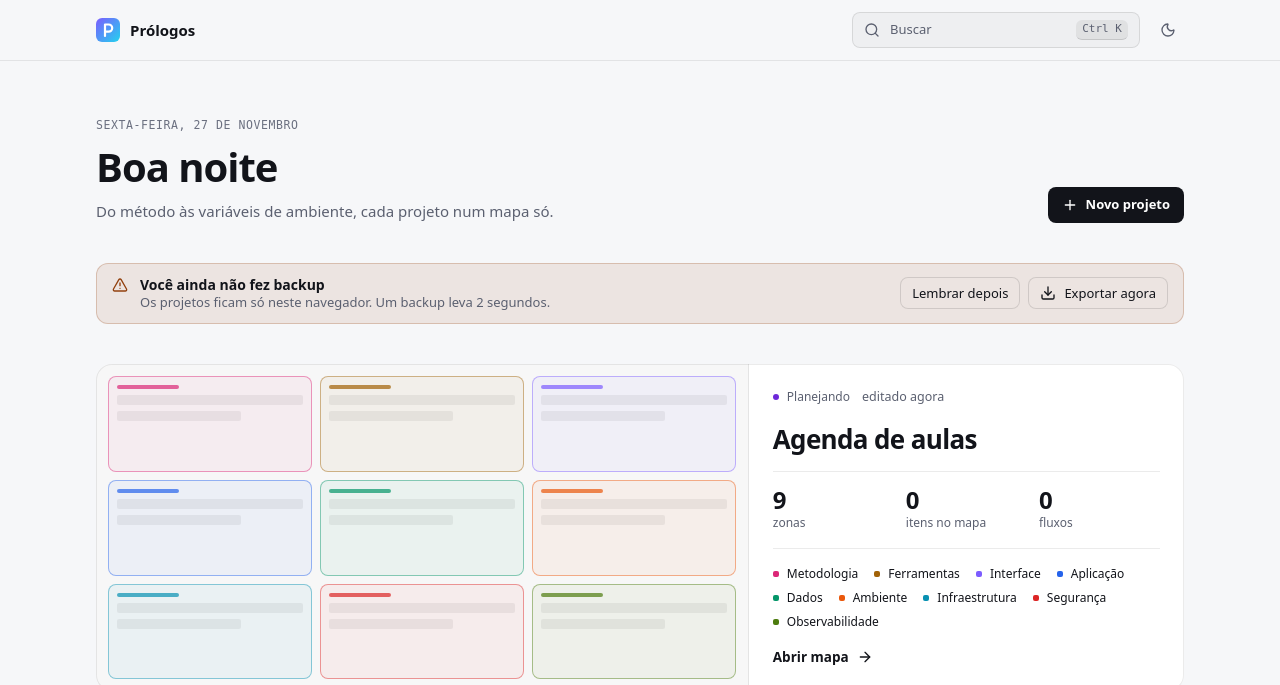
it: home (RN 4, 18) › shows the backup reminder and "Lembrar depois" hides it
Expected: the text "Você ainda não fez backup" is shown, [140,275,325,294]
Step 1. Click the button "Lembrar depois" → (960, 293), box [900,277,1020,309]
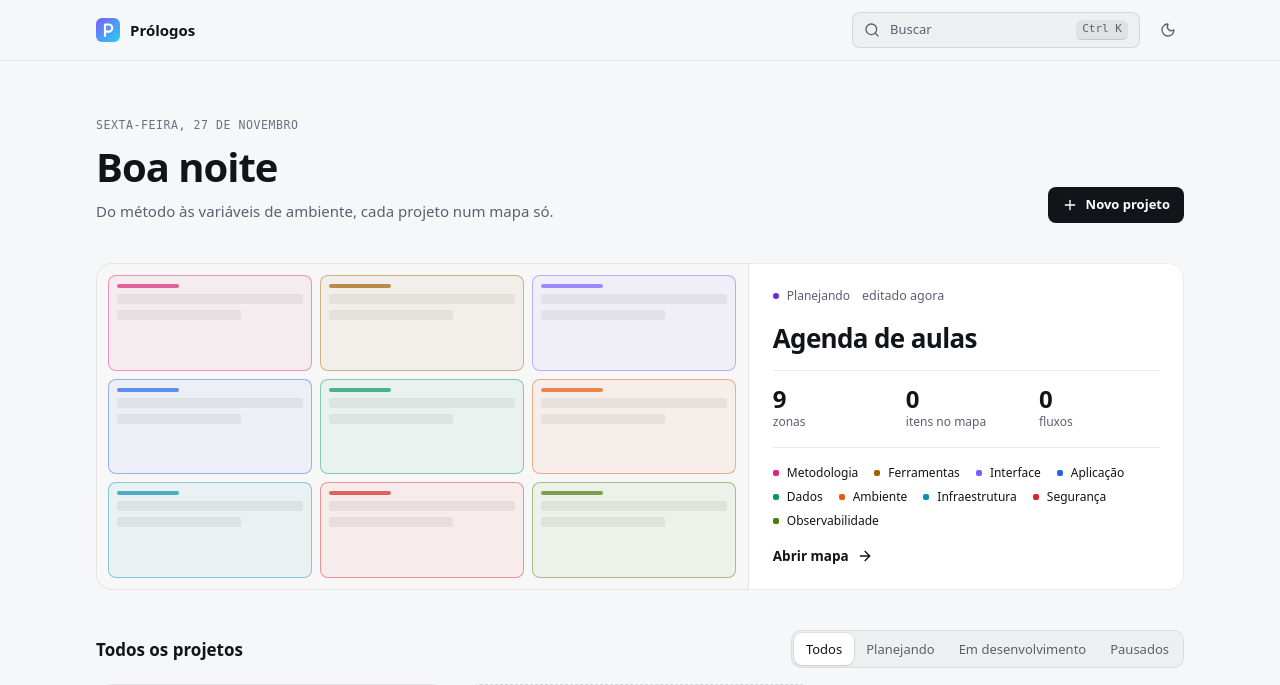
Expected: the text "Você ainda não fez backup" is gone
